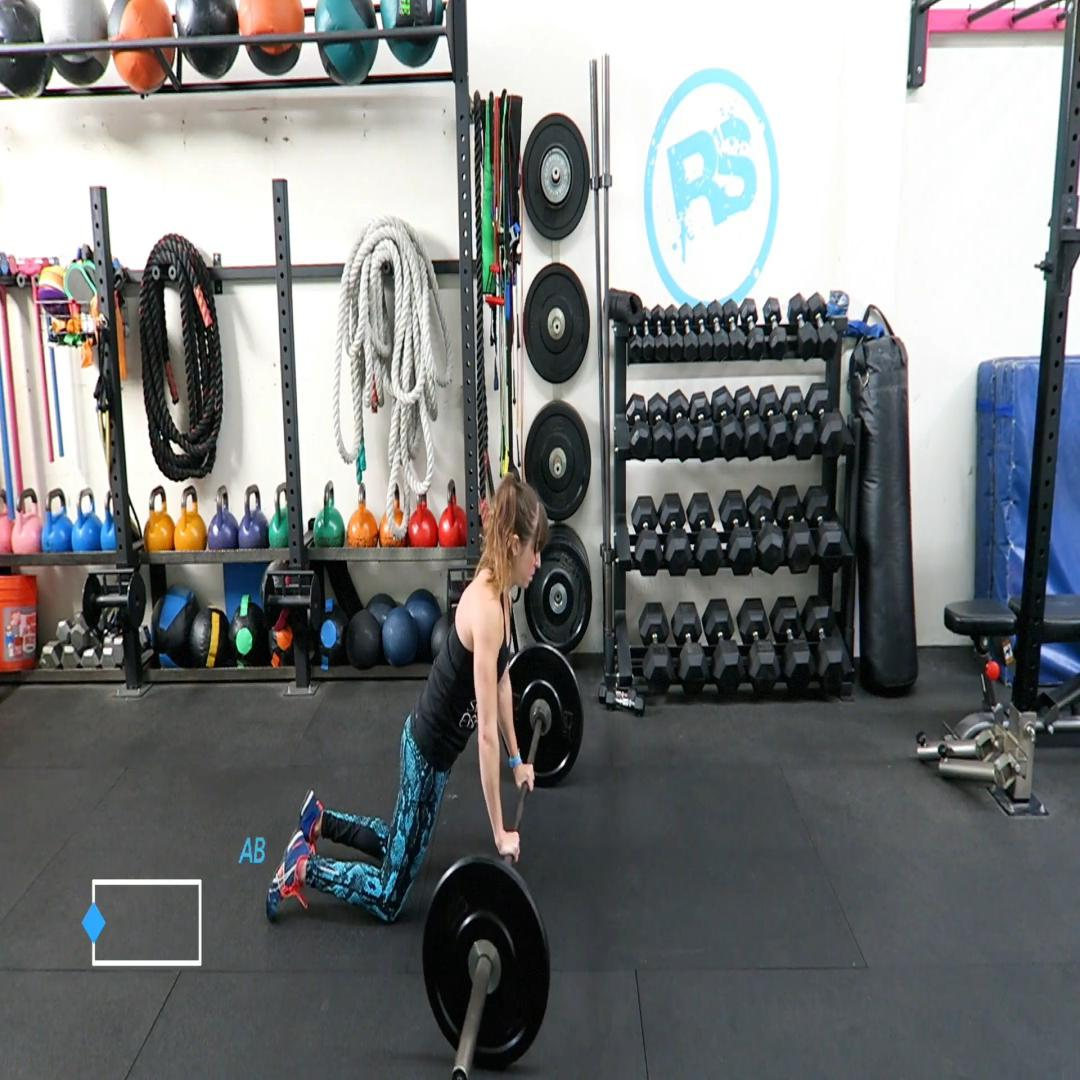Barbell: (421, 859, 550, 1071)
